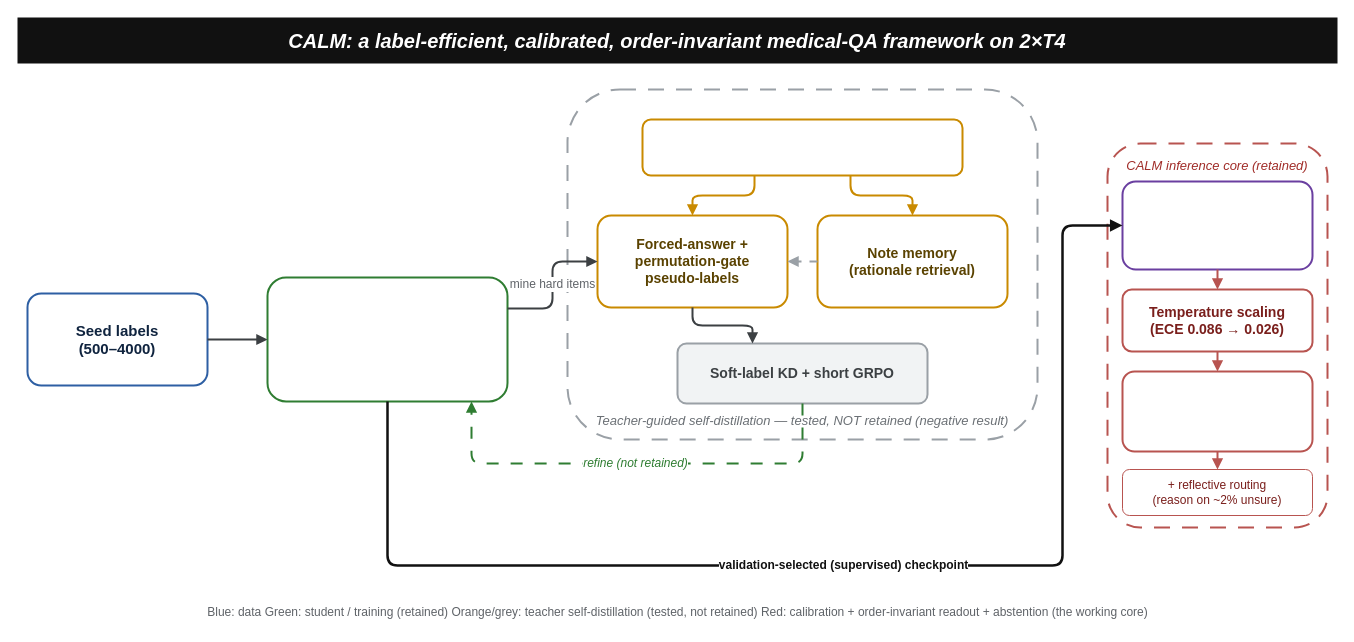
The diagram is 1354 pixels wide and 642 high, and some of its shapes have lost their labels. The centre of each missing label's shape, as x and y in pixels:
Order-invariant readout 4× cyclic marginalization (acc 0.633 → 0.655): [1217,225]
QLoRA student Qwen2.5 3B / 7B (4-bit, supervised) — retained backbone —: [387,339]
Selective prediction answer / abstain (81% acc @ 50% coverage): [1217,411]
Teacher: HuatuoGPT-o1-7B (4-bit): [802,147]
